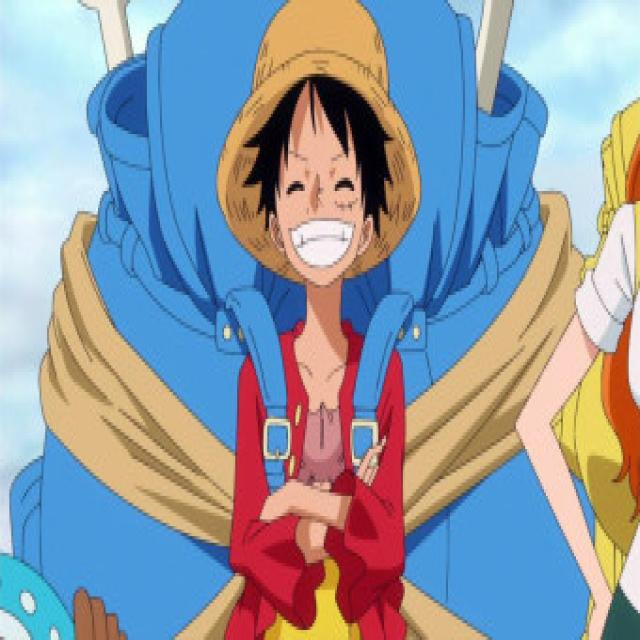Luffy: (204, 0, 443, 296)
